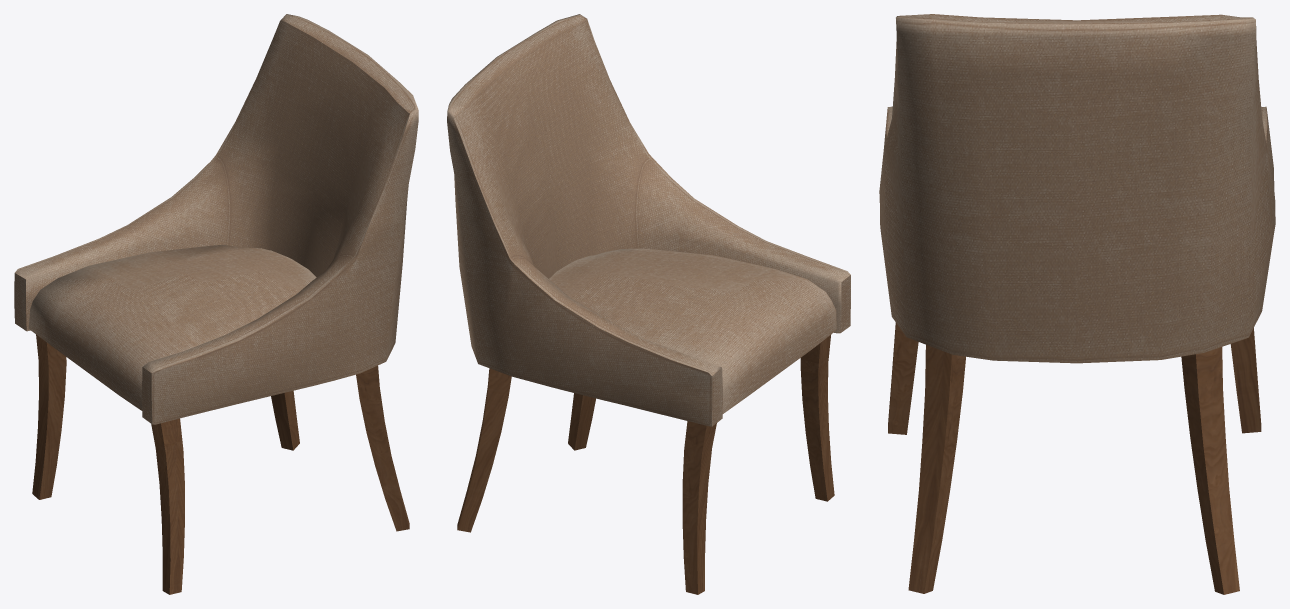
The model's file is SM_Chair_A2.fbx.
3 views of the same model, side by side, from view 1: azimuth 30°, elevation 25°; view 2: azimuth 150°, elevation 25°; view 3: azimuth 270°, elevation 25° (orthographic). The views are drawn at different scales.
Visible parts, largest first — view 1: SM_Chair_A2; view 2: SM_Chair_A2; view 3: SM_Chair_A2.
Part boxes in pixels (x1=…): SM_Chair_A2: x1=14, y1=14, x2=418, y2=594; SM_Chair_A2: x1=447, y1=14, x2=850, y2=594; SM_Chair_A2: x1=879, y1=14, x2=1275, y2=594.
Size of the model in its own units: 66.7 by 58.33 by 94.66.
1 material, 1 textured.
